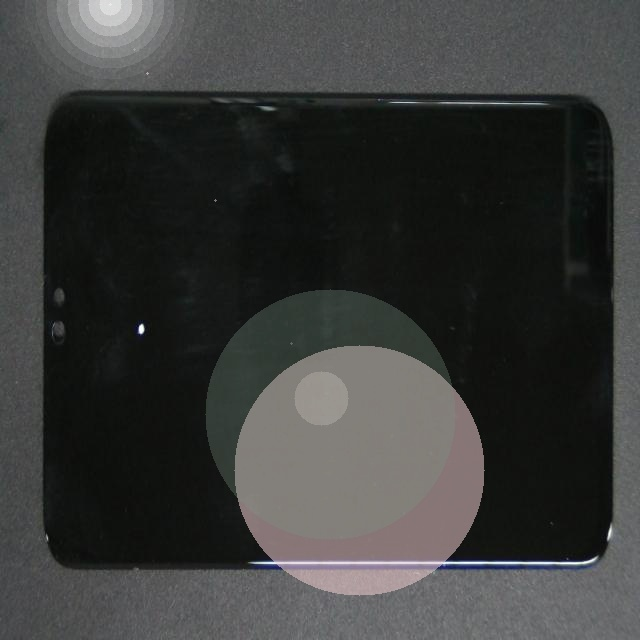stain: (81, 140, 206, 464)
